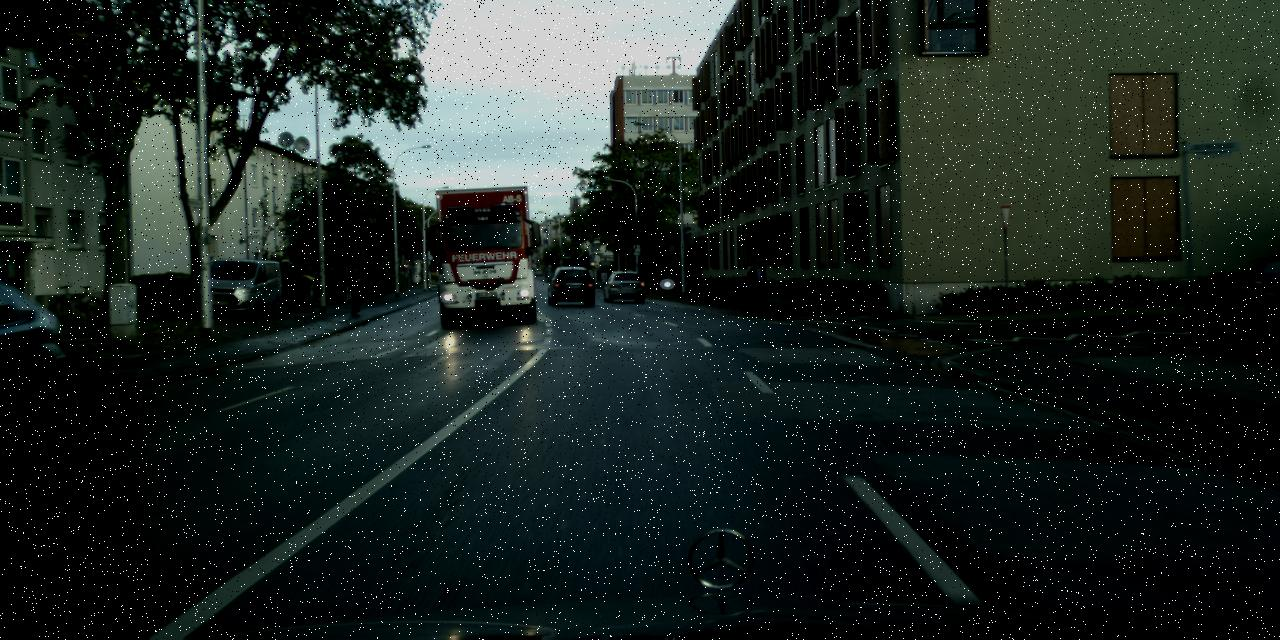ped: (749, 258, 769, 306), (346, 268, 365, 316), (663, 271, 668, 285)
